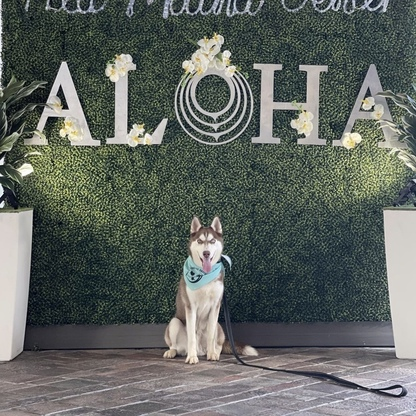husky: (159, 214, 237, 366)
